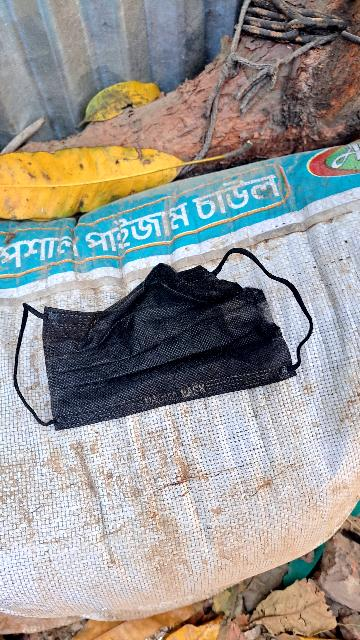mask: (22, 245, 304, 444)
